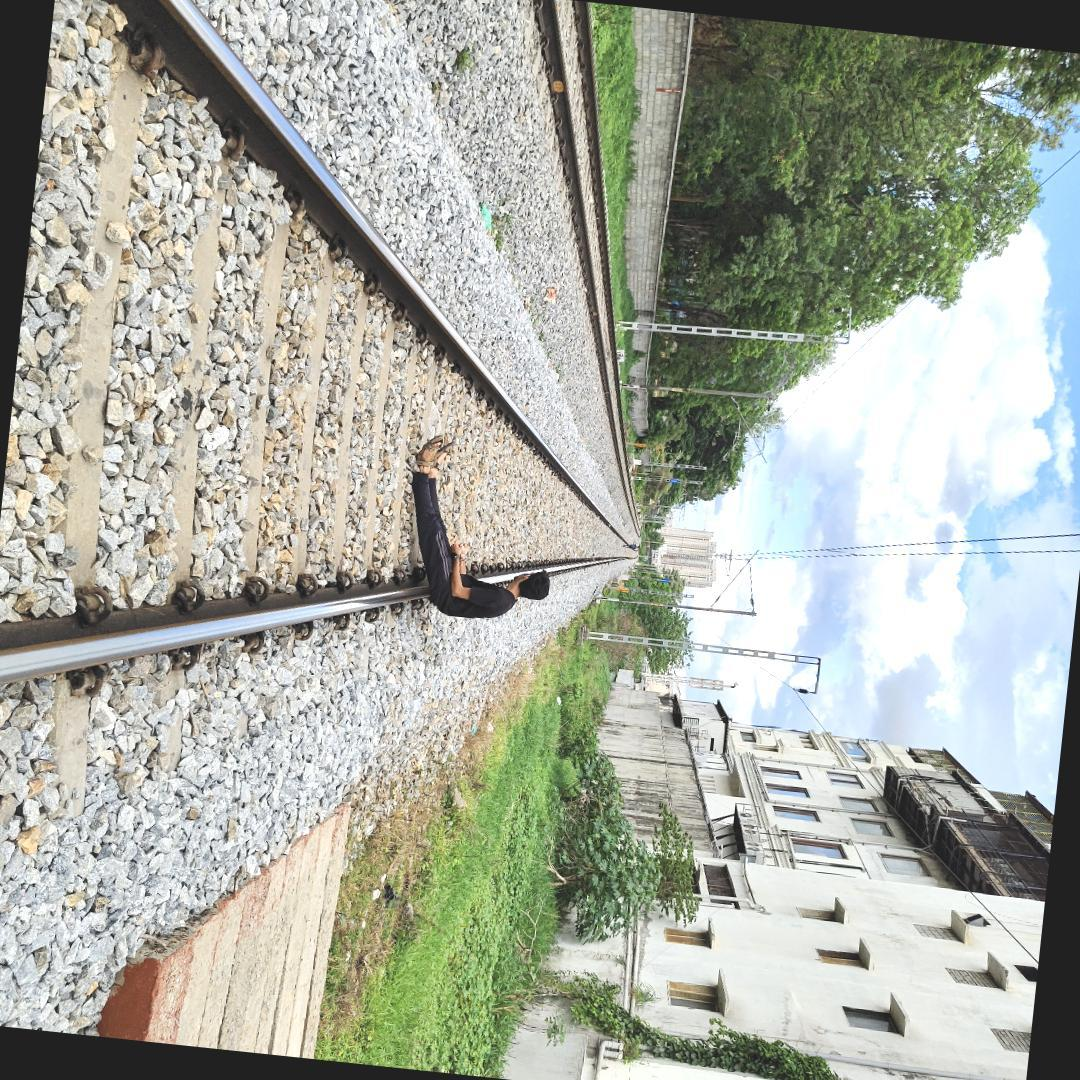sitting: (404, 430, 561, 629)
